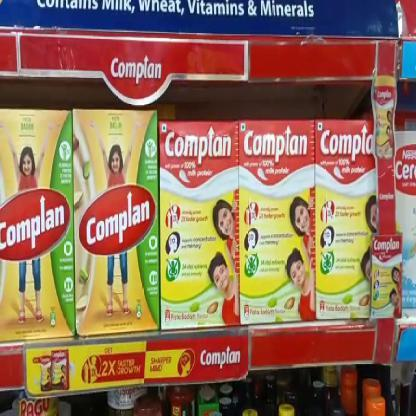Complan Pista Badam: (73, 111, 158, 348), (157, 122, 237, 334), (0, 112, 73, 339), (240, 122, 316, 334), (314, 120, 374, 324)
